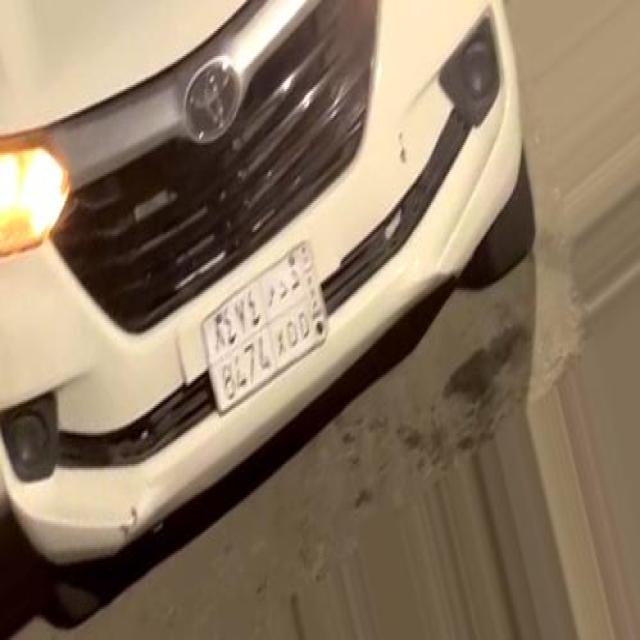Car-plate: (186, 218, 350, 453)
